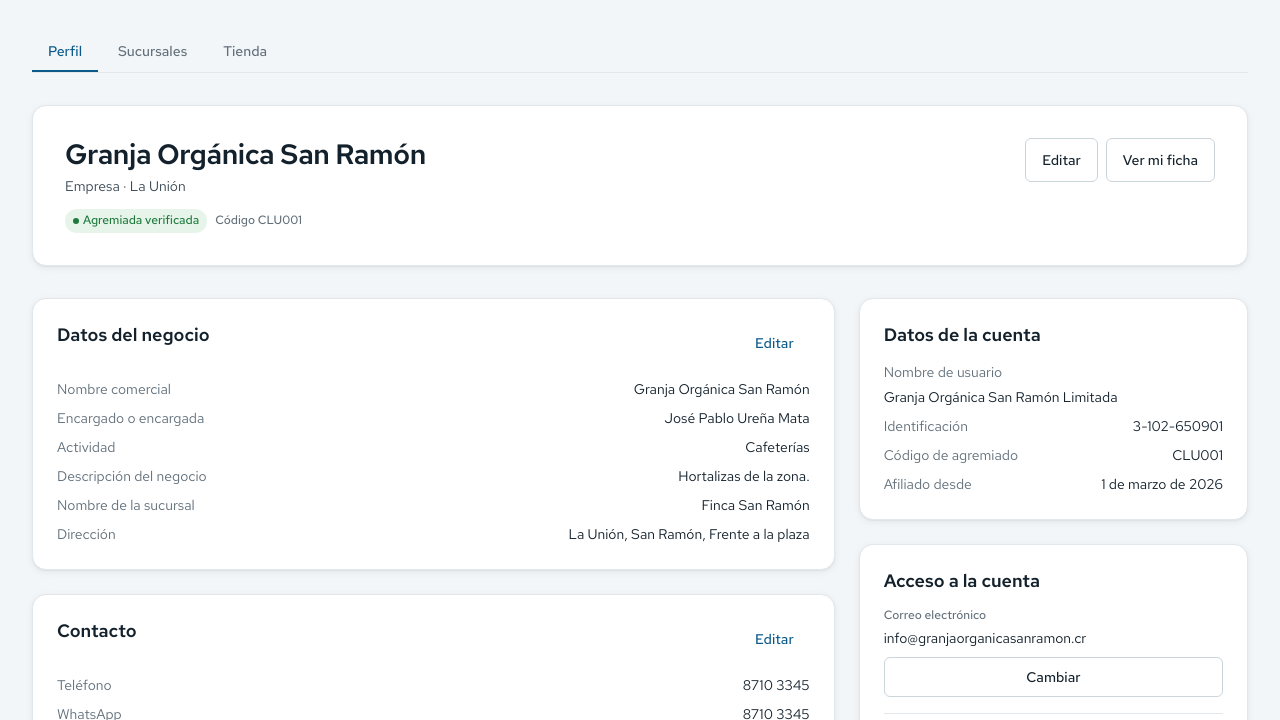
Test case: the profile screen › edits the business in its popup and says it saved
The image size is (1280, 720).
expect the heading "Granja Orgánica San Ramón" is shown: met, box [65,138,426,172]
Click the button "Editar" next to "Ver mi ficha" at (1062, 160), box [1025,138,1098,182]
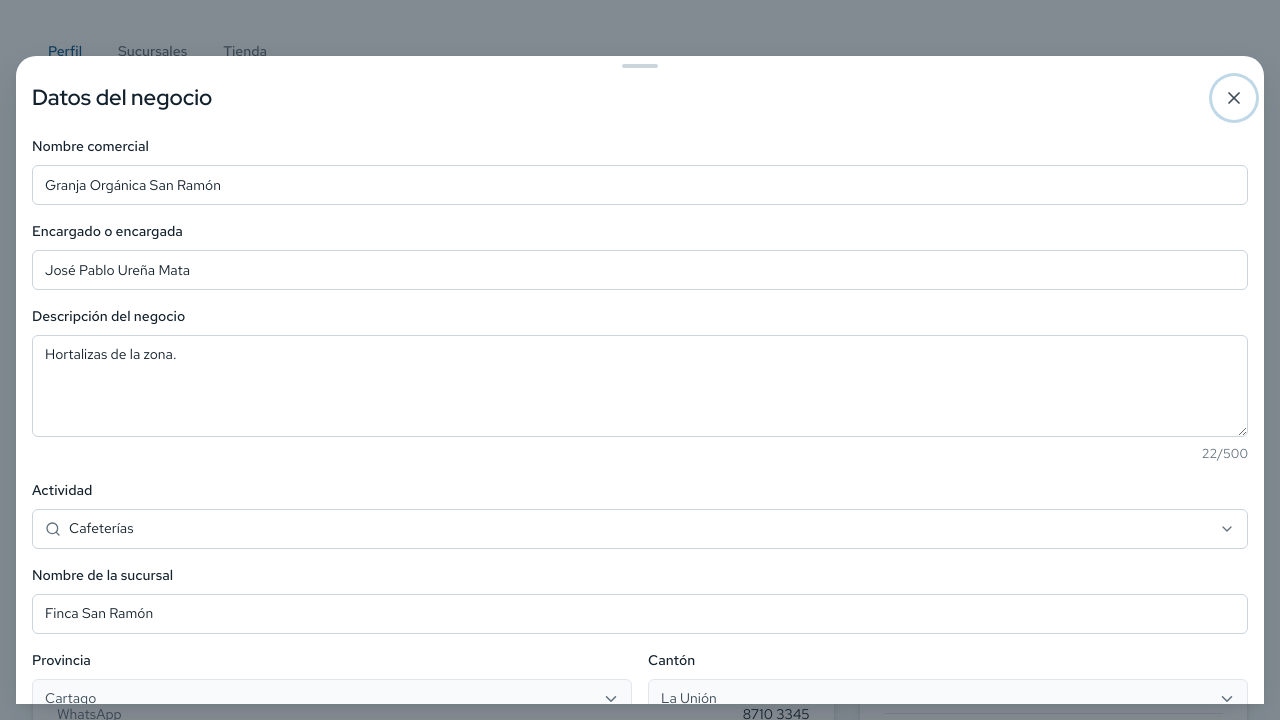
Replace the text in the field labelled "Nombre comercial" with "Granja San Ramón" at (640, 185), box [32,165,1248,205]
(page scrolled)
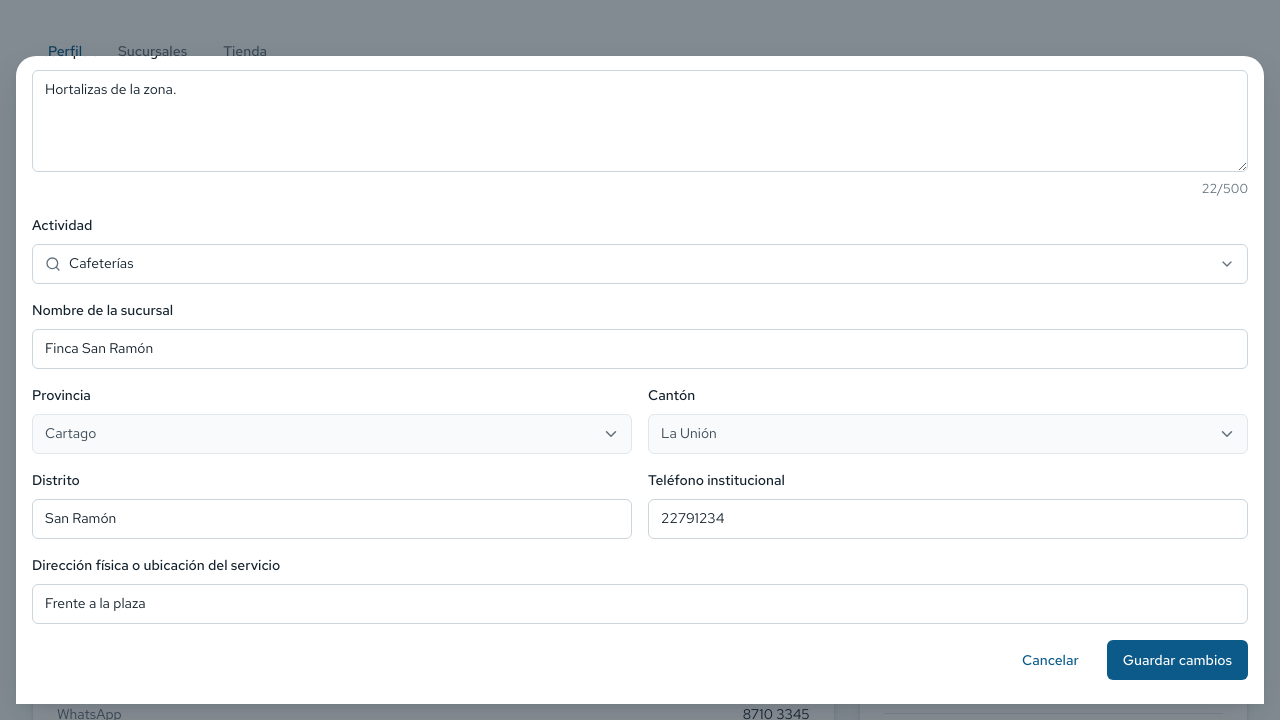
Click the button "Guardar cambios" at (1177, 660), box [1107,640,1248,680]
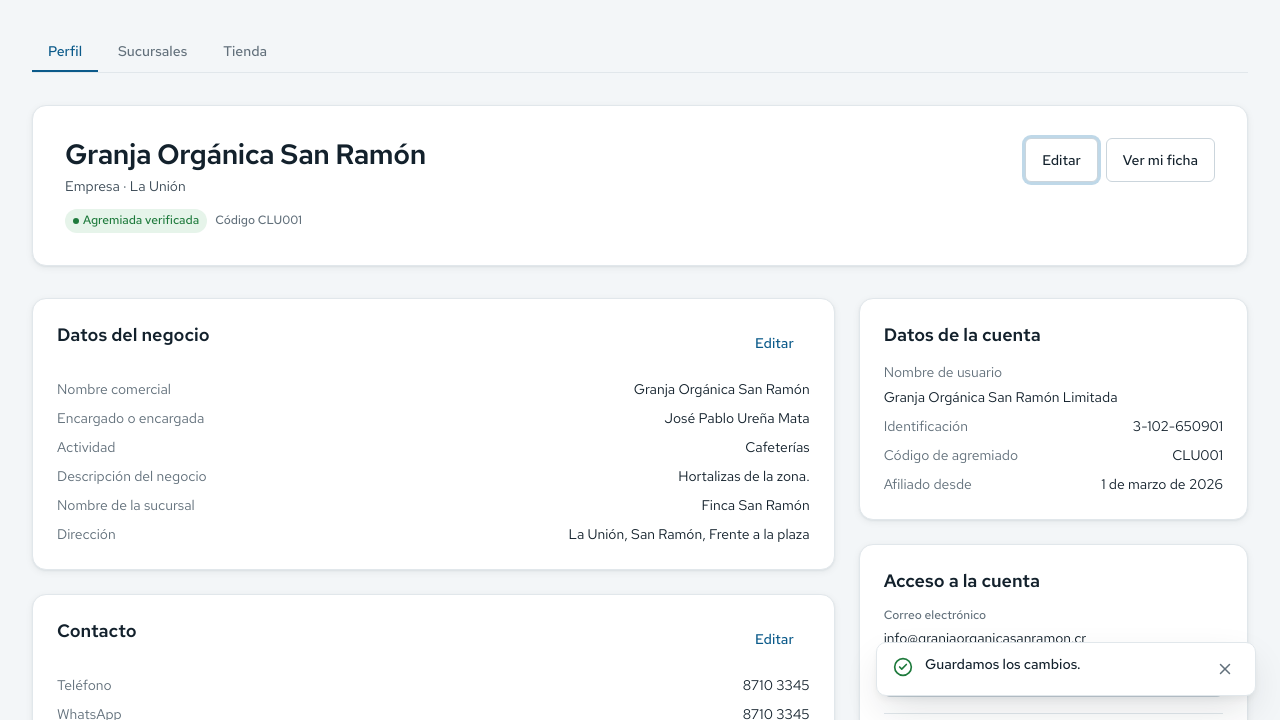
expect the text "Guardamos los cambios." is shown: met, box [925,655,1081,673]
